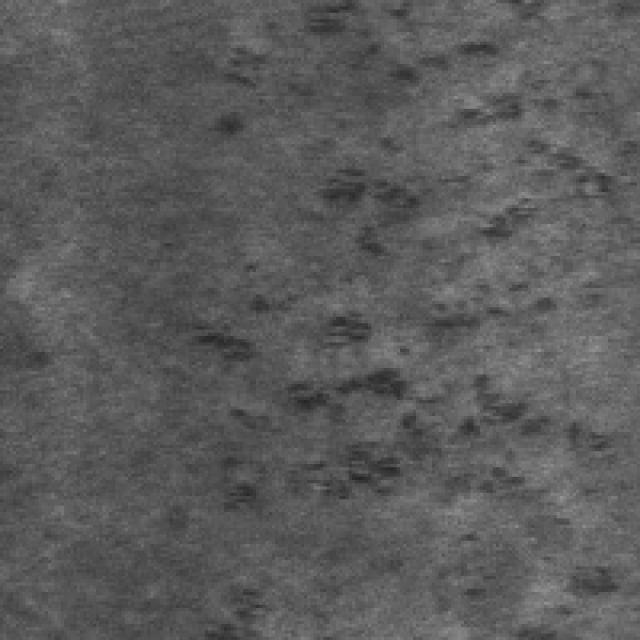rolled-in_scale: (214, 192, 621, 566), (271, 0, 582, 262)
